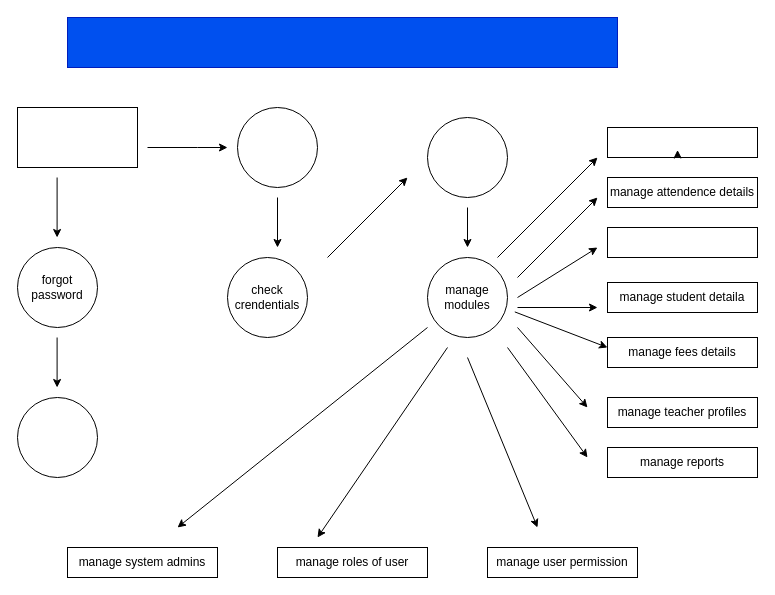
The diagram is 775 pixels wide and 595 high, and some of its shapes have lost their labels. Each missing label, with the centre of its shape:
"Admin" goes at (77,137).
"check roles of access" goes at (467,157).
"login to system" goes at (277,147).
"manage timetable details" goes at (682,142).
"send Email to user" goes at (57,437).
